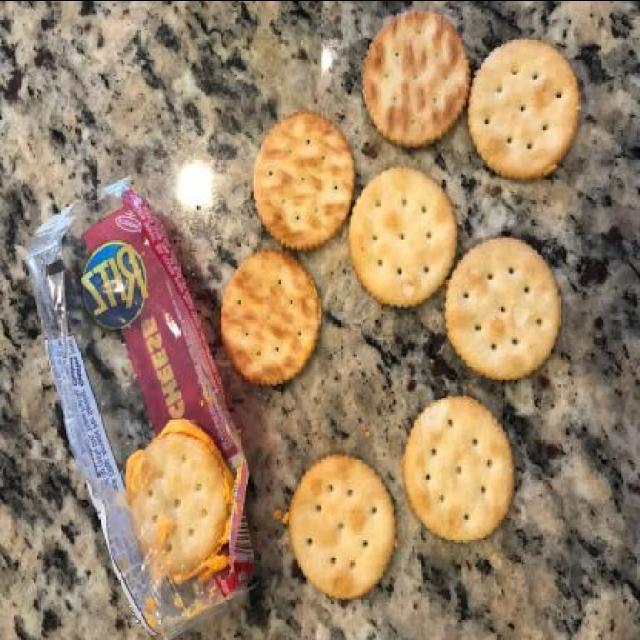Ritz cracker packaged: (218, 10, 600, 599), (128, 428, 224, 580)
